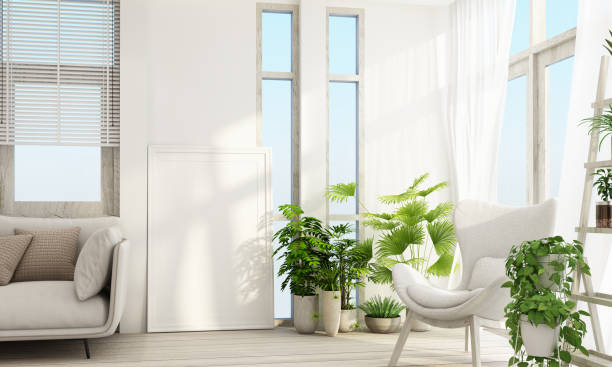chair: (385, 198, 560, 366)
large plant: (336, 179, 458, 274), (505, 237, 589, 365), (277, 203, 319, 334), (318, 228, 345, 333)
small plant: (358, 292, 404, 335), (592, 167, 612, 227)
sofa: (0, 211, 134, 360)
